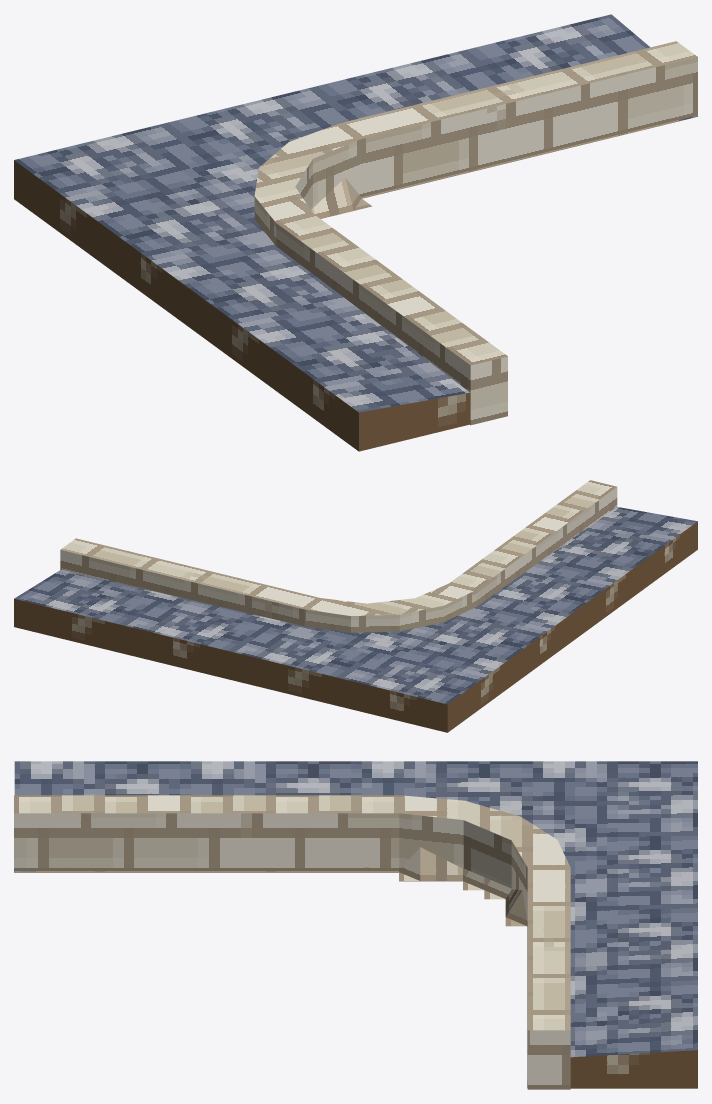
Rendered from seawall_inner_rim.glb.
The picture shows the model from 3 angles, top to bottom: view 1: azimuth 30°, elevation 25°; view 2: azimuth 150°, elevation 25°; view 3: azimuth 270°, elevation 25°; orthographic projection. The views are drawn at different scales.
Parts seen in each view (by area): view 1: tile-seawall_inner_rim__terrain, tile-seawall_inner_rim__coping_kerb; view 2: tile-seawall_inner_rim__terrain, tile-seawall_inner_rim__coping_kerb; view 3: tile-seawall_inner_rim__terrain, tile-seawall_inner_rim__coping_kerb.
Part boxes in pixels (<box>): tile-seawall_inner_rim__terrain: <box>14,14,697,451</box>; tile-seawall_inner_rim__coping_kerb: <box>254,41,697,425</box>; tile-seawall_inner_rim__terrain: <box>14,507,697,732</box>; tile-seawall_inner_rim__coping_kerb: <box>60,480,617,632</box>; tile-seawall_inner_rim__terrain: <box>14,761,697,1088</box>; tile-seawall_inner_rim__coping_kerb: <box>14,795,570,1089</box>.
Bounding box in the file's own units: 6.61 × 0.6316 × 6.61.
Materials: 4 (4 with a texture image).
